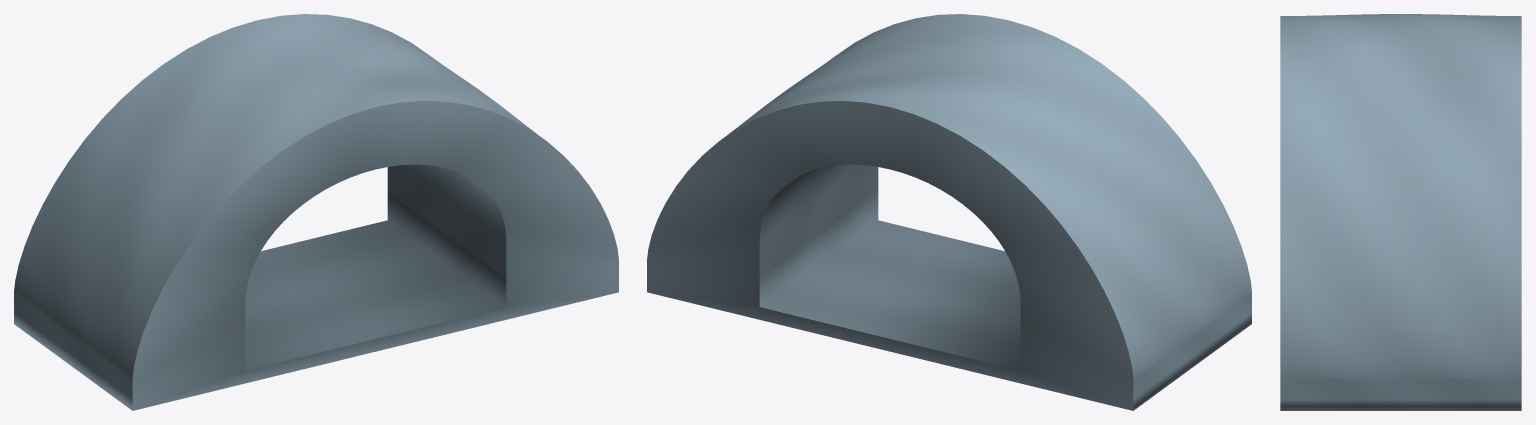
The model's file is straight_12m_terrain.glb.
3 renders of one model, left to right at view 1: azimuth 30°, elevation 25°; view 2: azimuth 150°, elevation 25°; view 3: azimuth 270°, elevation 25°, orthographic.
Visible parts, largest first — view 1: TerrainRoof.004; view 2: TerrainRoof.004; view 3: TerrainRoof.004.
Part boxes in pixels (x1,y1,x2,y2): TerrainRoof.004: [14, 14, 618, 410]; TerrainRoof.004: [647, 14, 1251, 410]; TerrainRoof.004: [1280, 14, 1521, 410].
Bounding box in the file's own units: 28.4 × 13.65 × 12.
